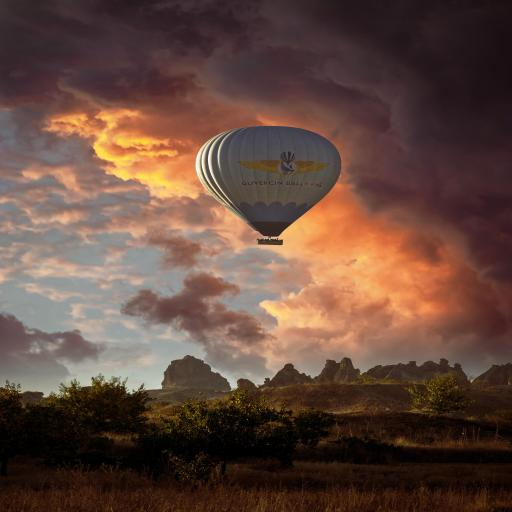hot air ballon: (194, 126, 343, 245)
